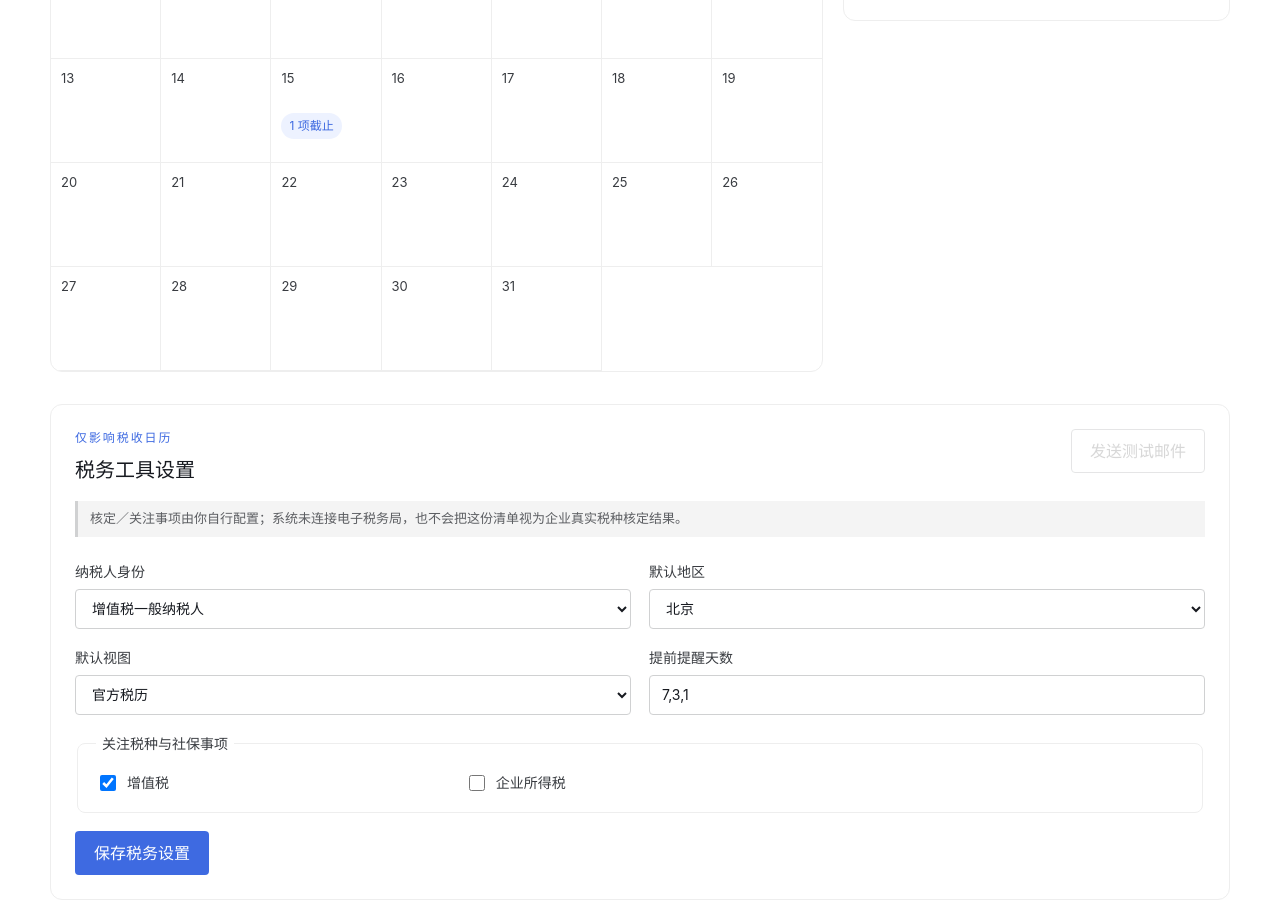
Test: restores persisted settings when saving fails
This screenshot has width=1280, height=900.
(page scrolled)
Expected: the field labelled "提前提醒天数" holds "7,3,1", top-left (649, 674), bottom-right (1205, 714)
Select "增值税小规模纳税人" in the dropdown labelled "纳税人身份" at (353, 608), box top-left (75, 588), bottom-right (631, 628)
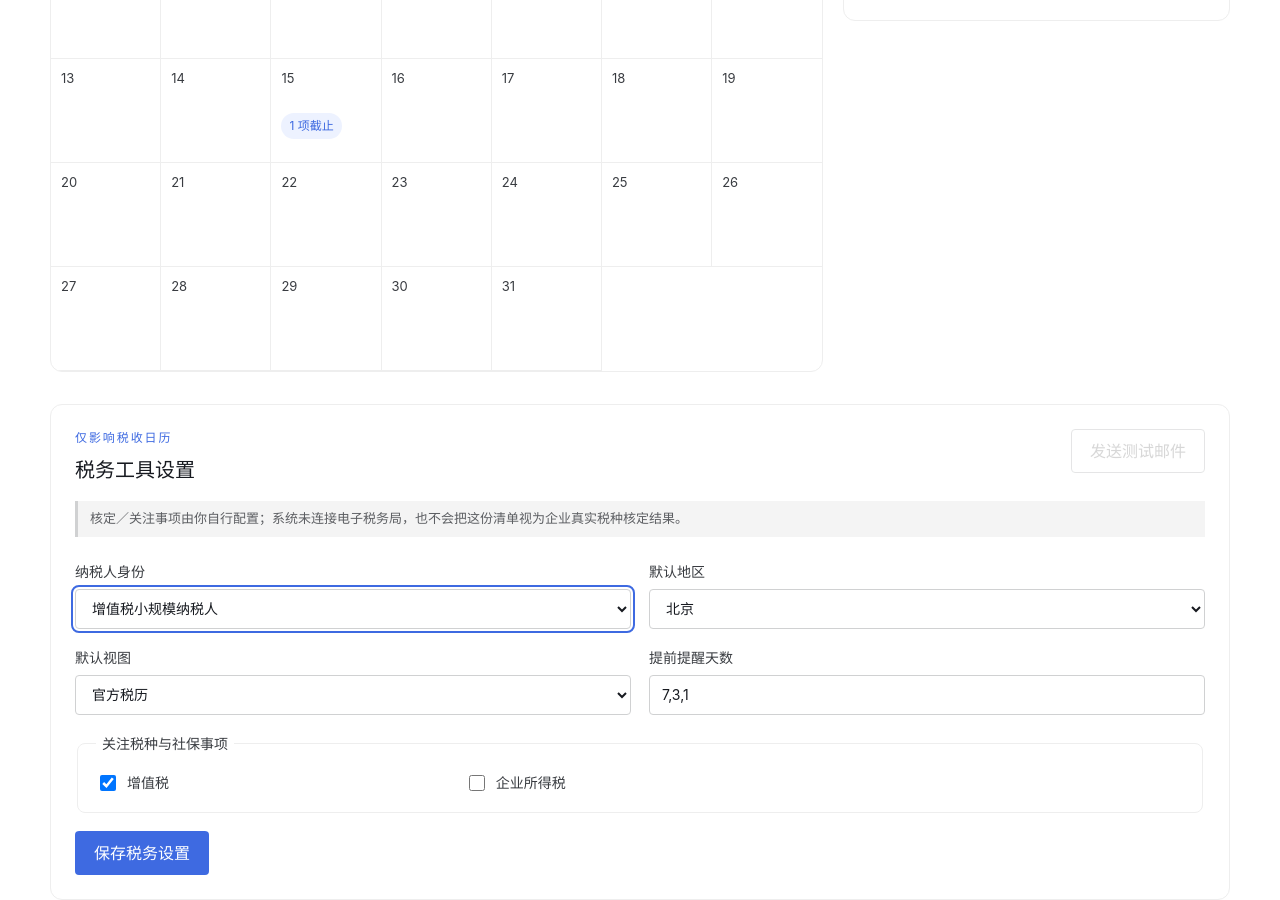
Replace the text in the field labelled "提前提醒天数" with "9," at (927, 694), box top-left (649, 674), bottom-right (1205, 714)
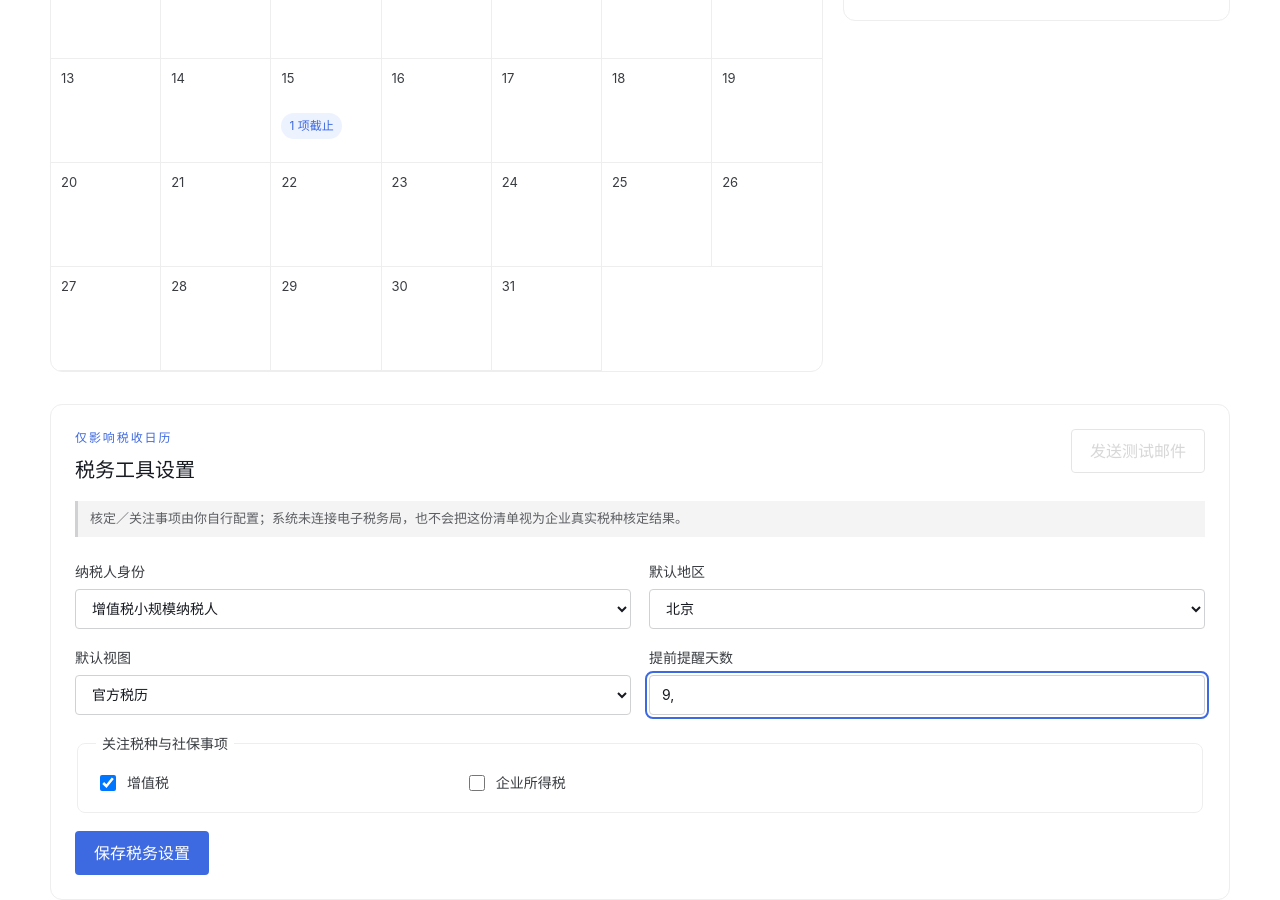
Click the button "保存税务设置" at (142, 852), box top-left (75, 830), bottom-right (209, 874)
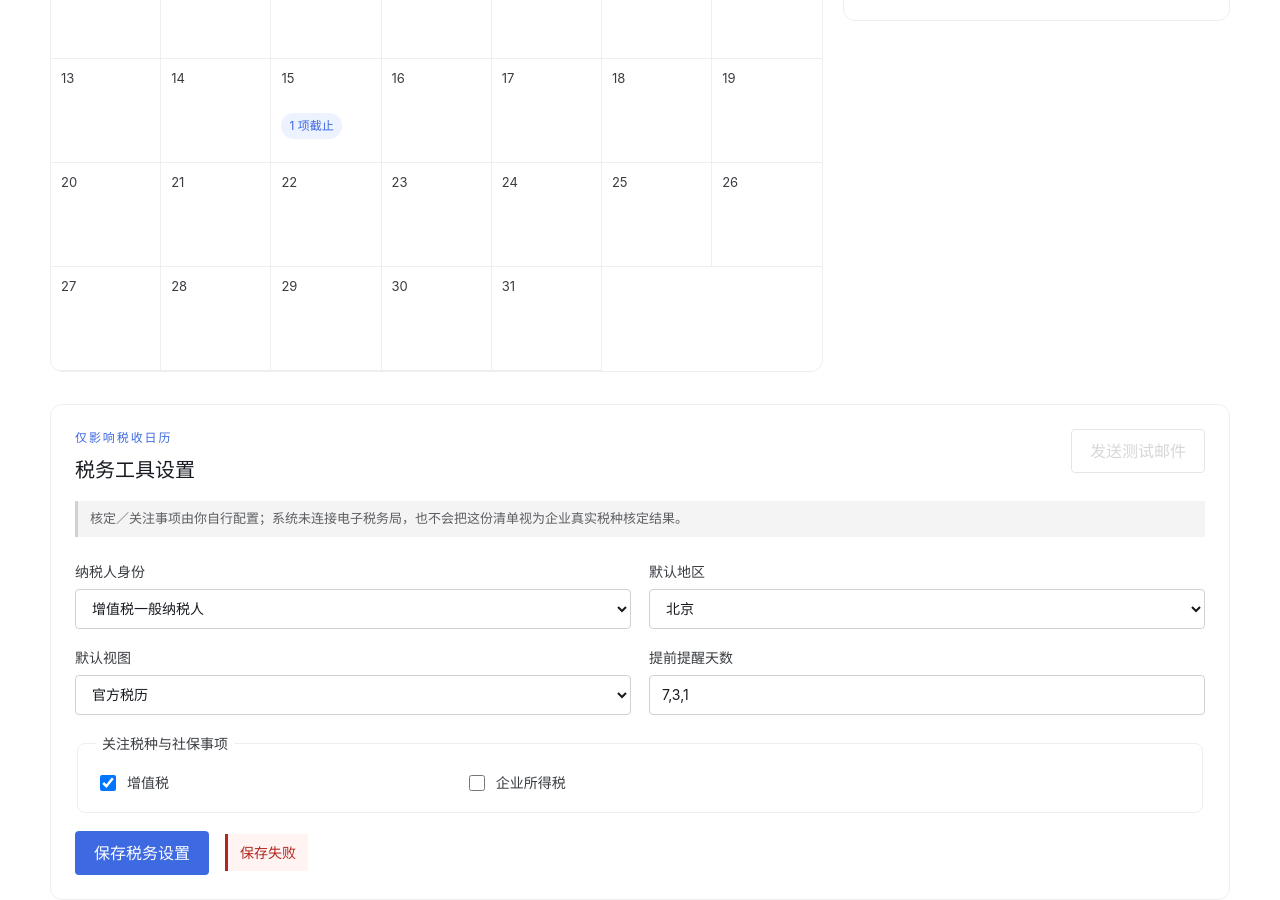
Result: the message reads "保存失败" at top-left (240, 844), bottom-right (296, 861)
Result: the field labelled "提前提醒天数" holds "7,3,1" at top-left (649, 674), bottom-right (1205, 714)
